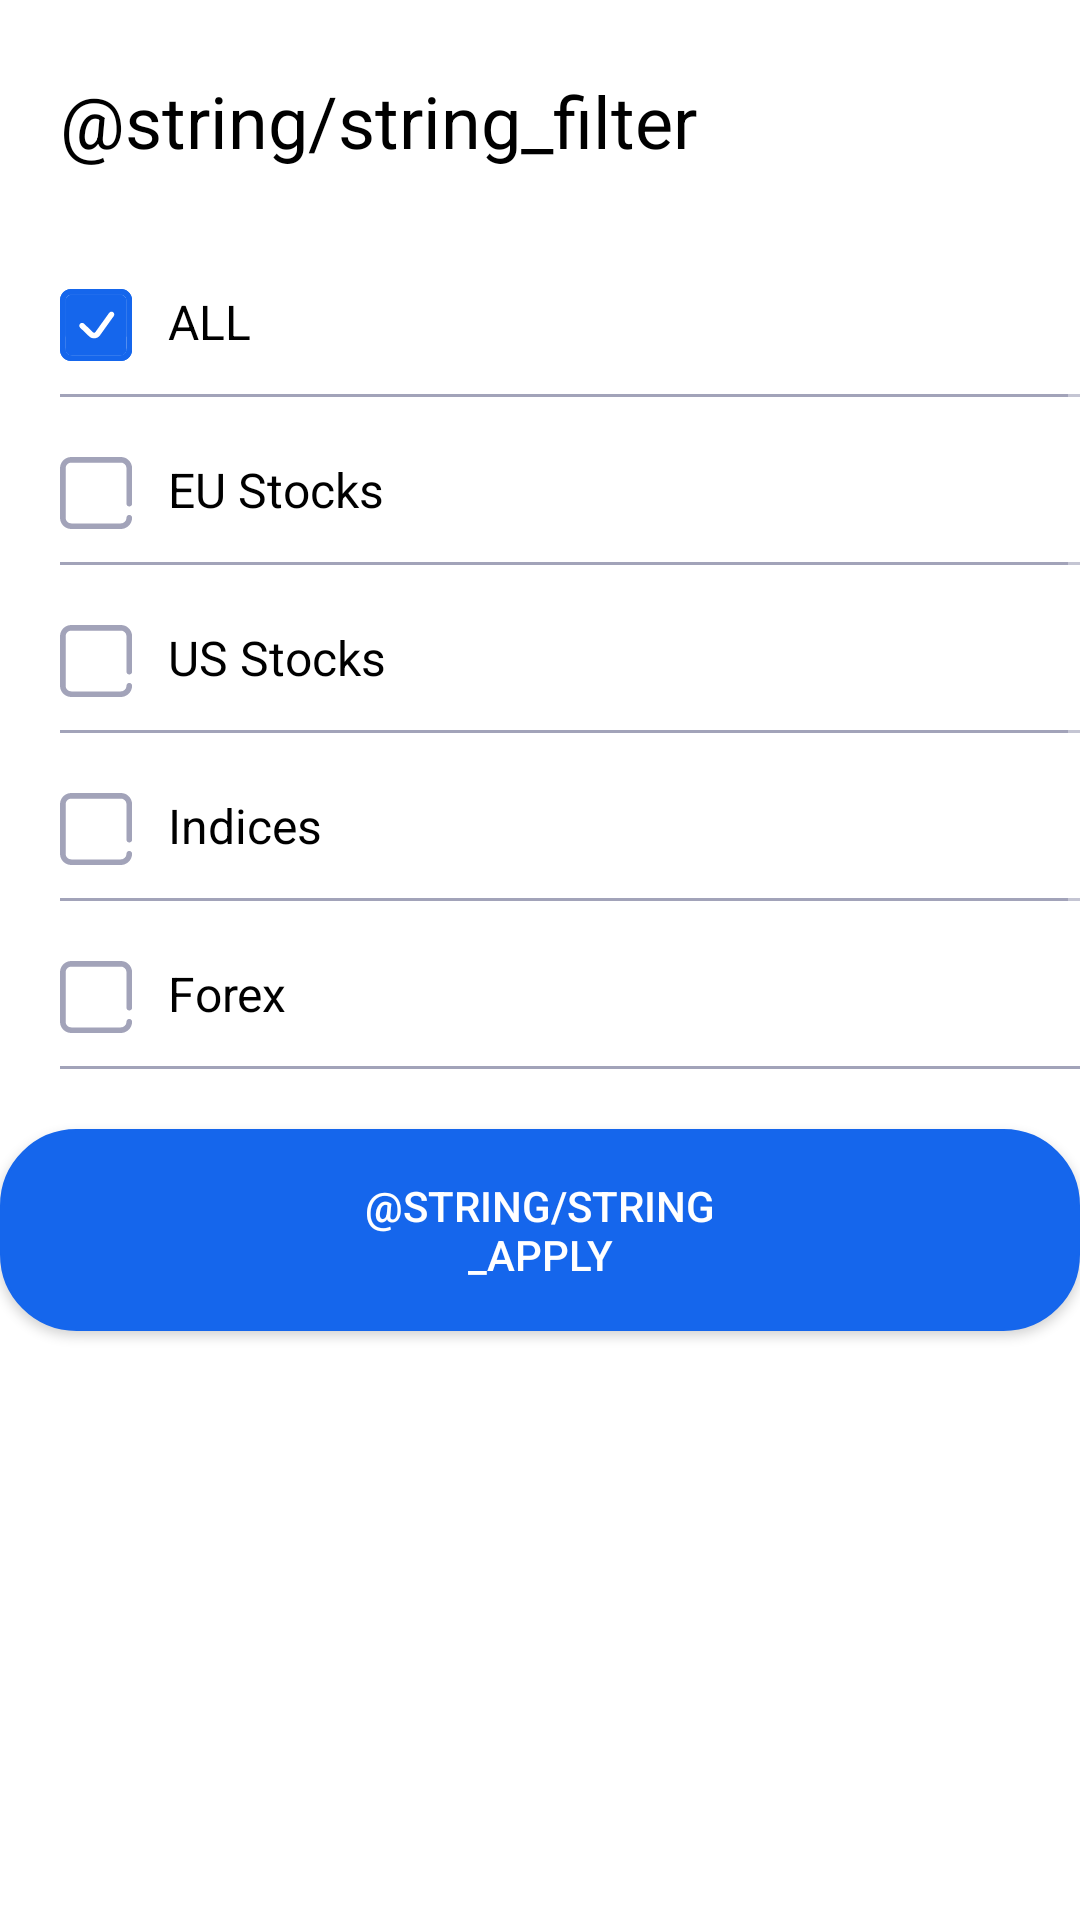

Icons on this 1080px x 1920px Android screen, each with the point to tap as [x,y]:
filter checked: [96,325]
filter not checked: [96,493], [96,661], [96,829], [96,997]
